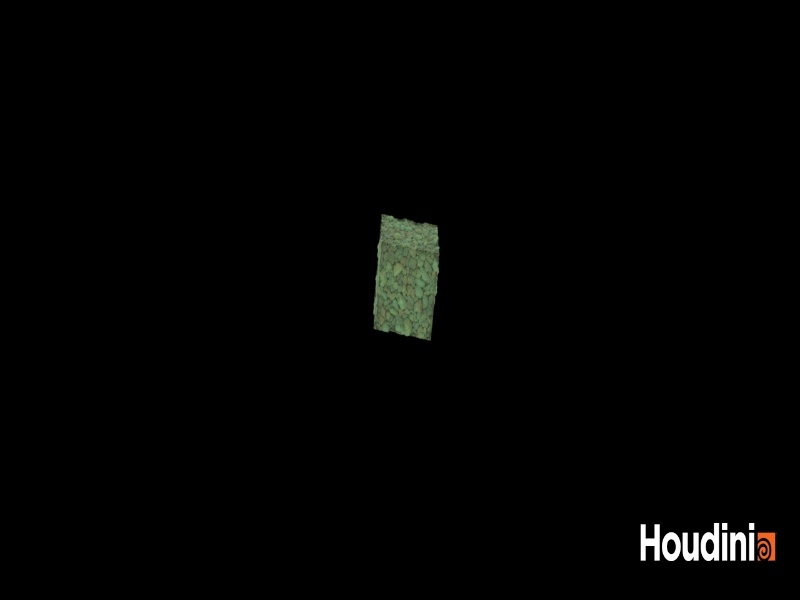waste: (365, 203, 445, 349)
